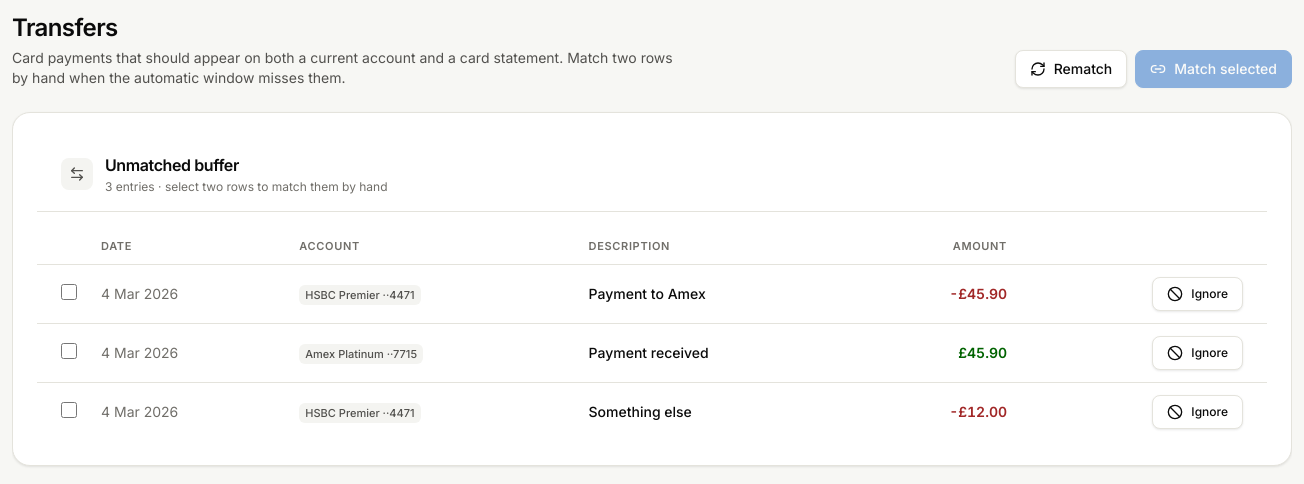
Test: <TransfersPage /> manual match › matches straight away when the two amounts cancel out
Click the checkbox named "Select transfer Payment to Amex for manual match" at (69, 292), box [61, 284, 77, 300]
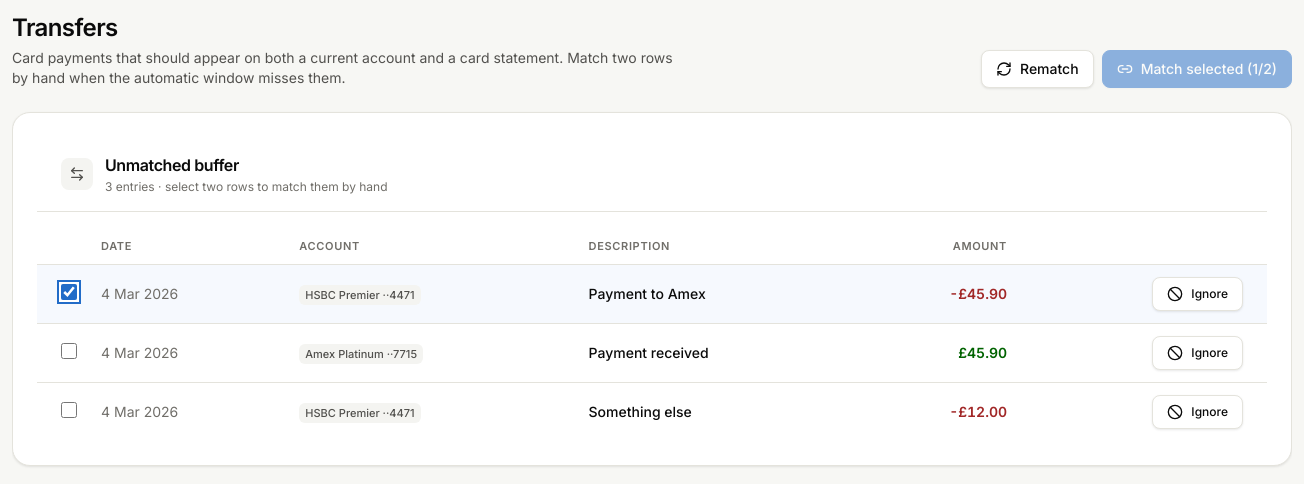
Click the checkbox named "Select transfer Payment received for manual match" at (69, 350), box [61, 342, 77, 358]
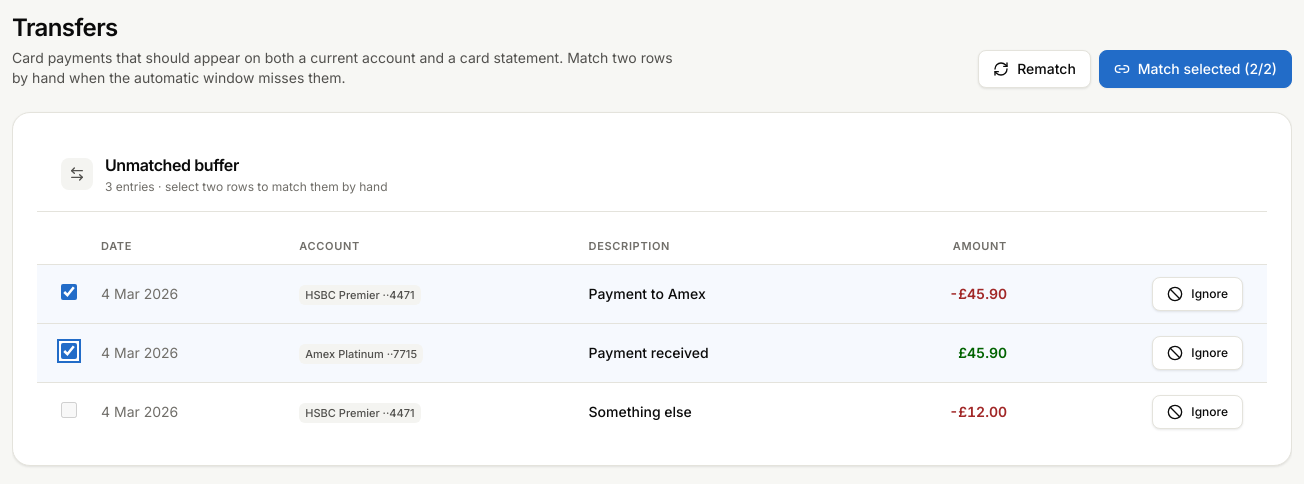
Click the button "Match selected (2/2)" at (1195, 69), box [1099, 50, 1292, 88]
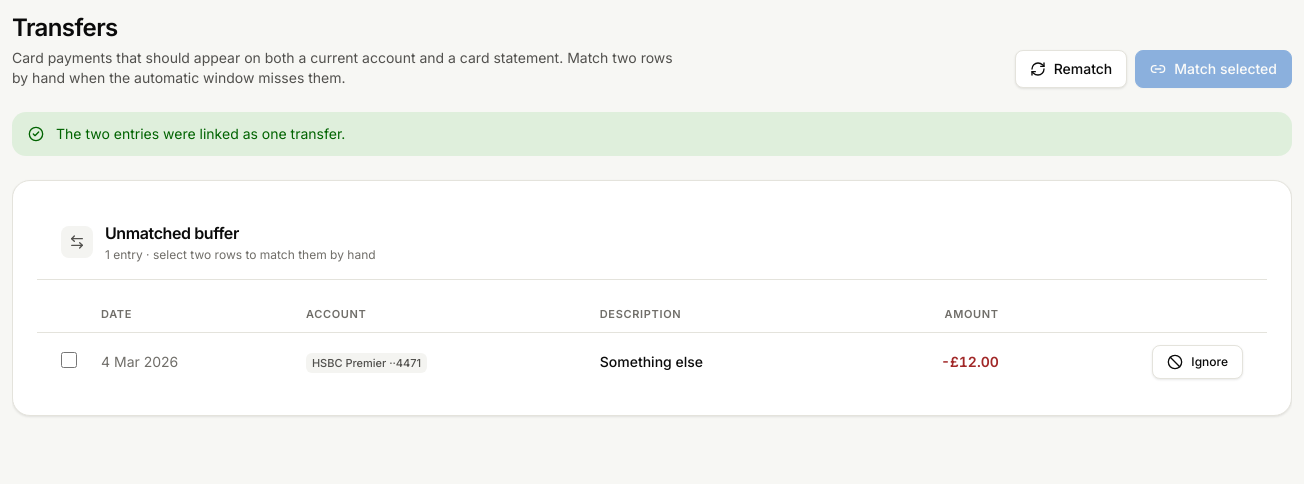
expect the text "The two entries were linked as one transfer." is shown: met, box [56, 125, 345, 142]
